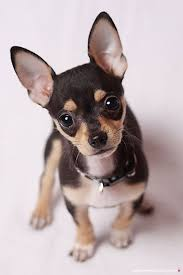chihuahua: (5, 13, 176, 251)
